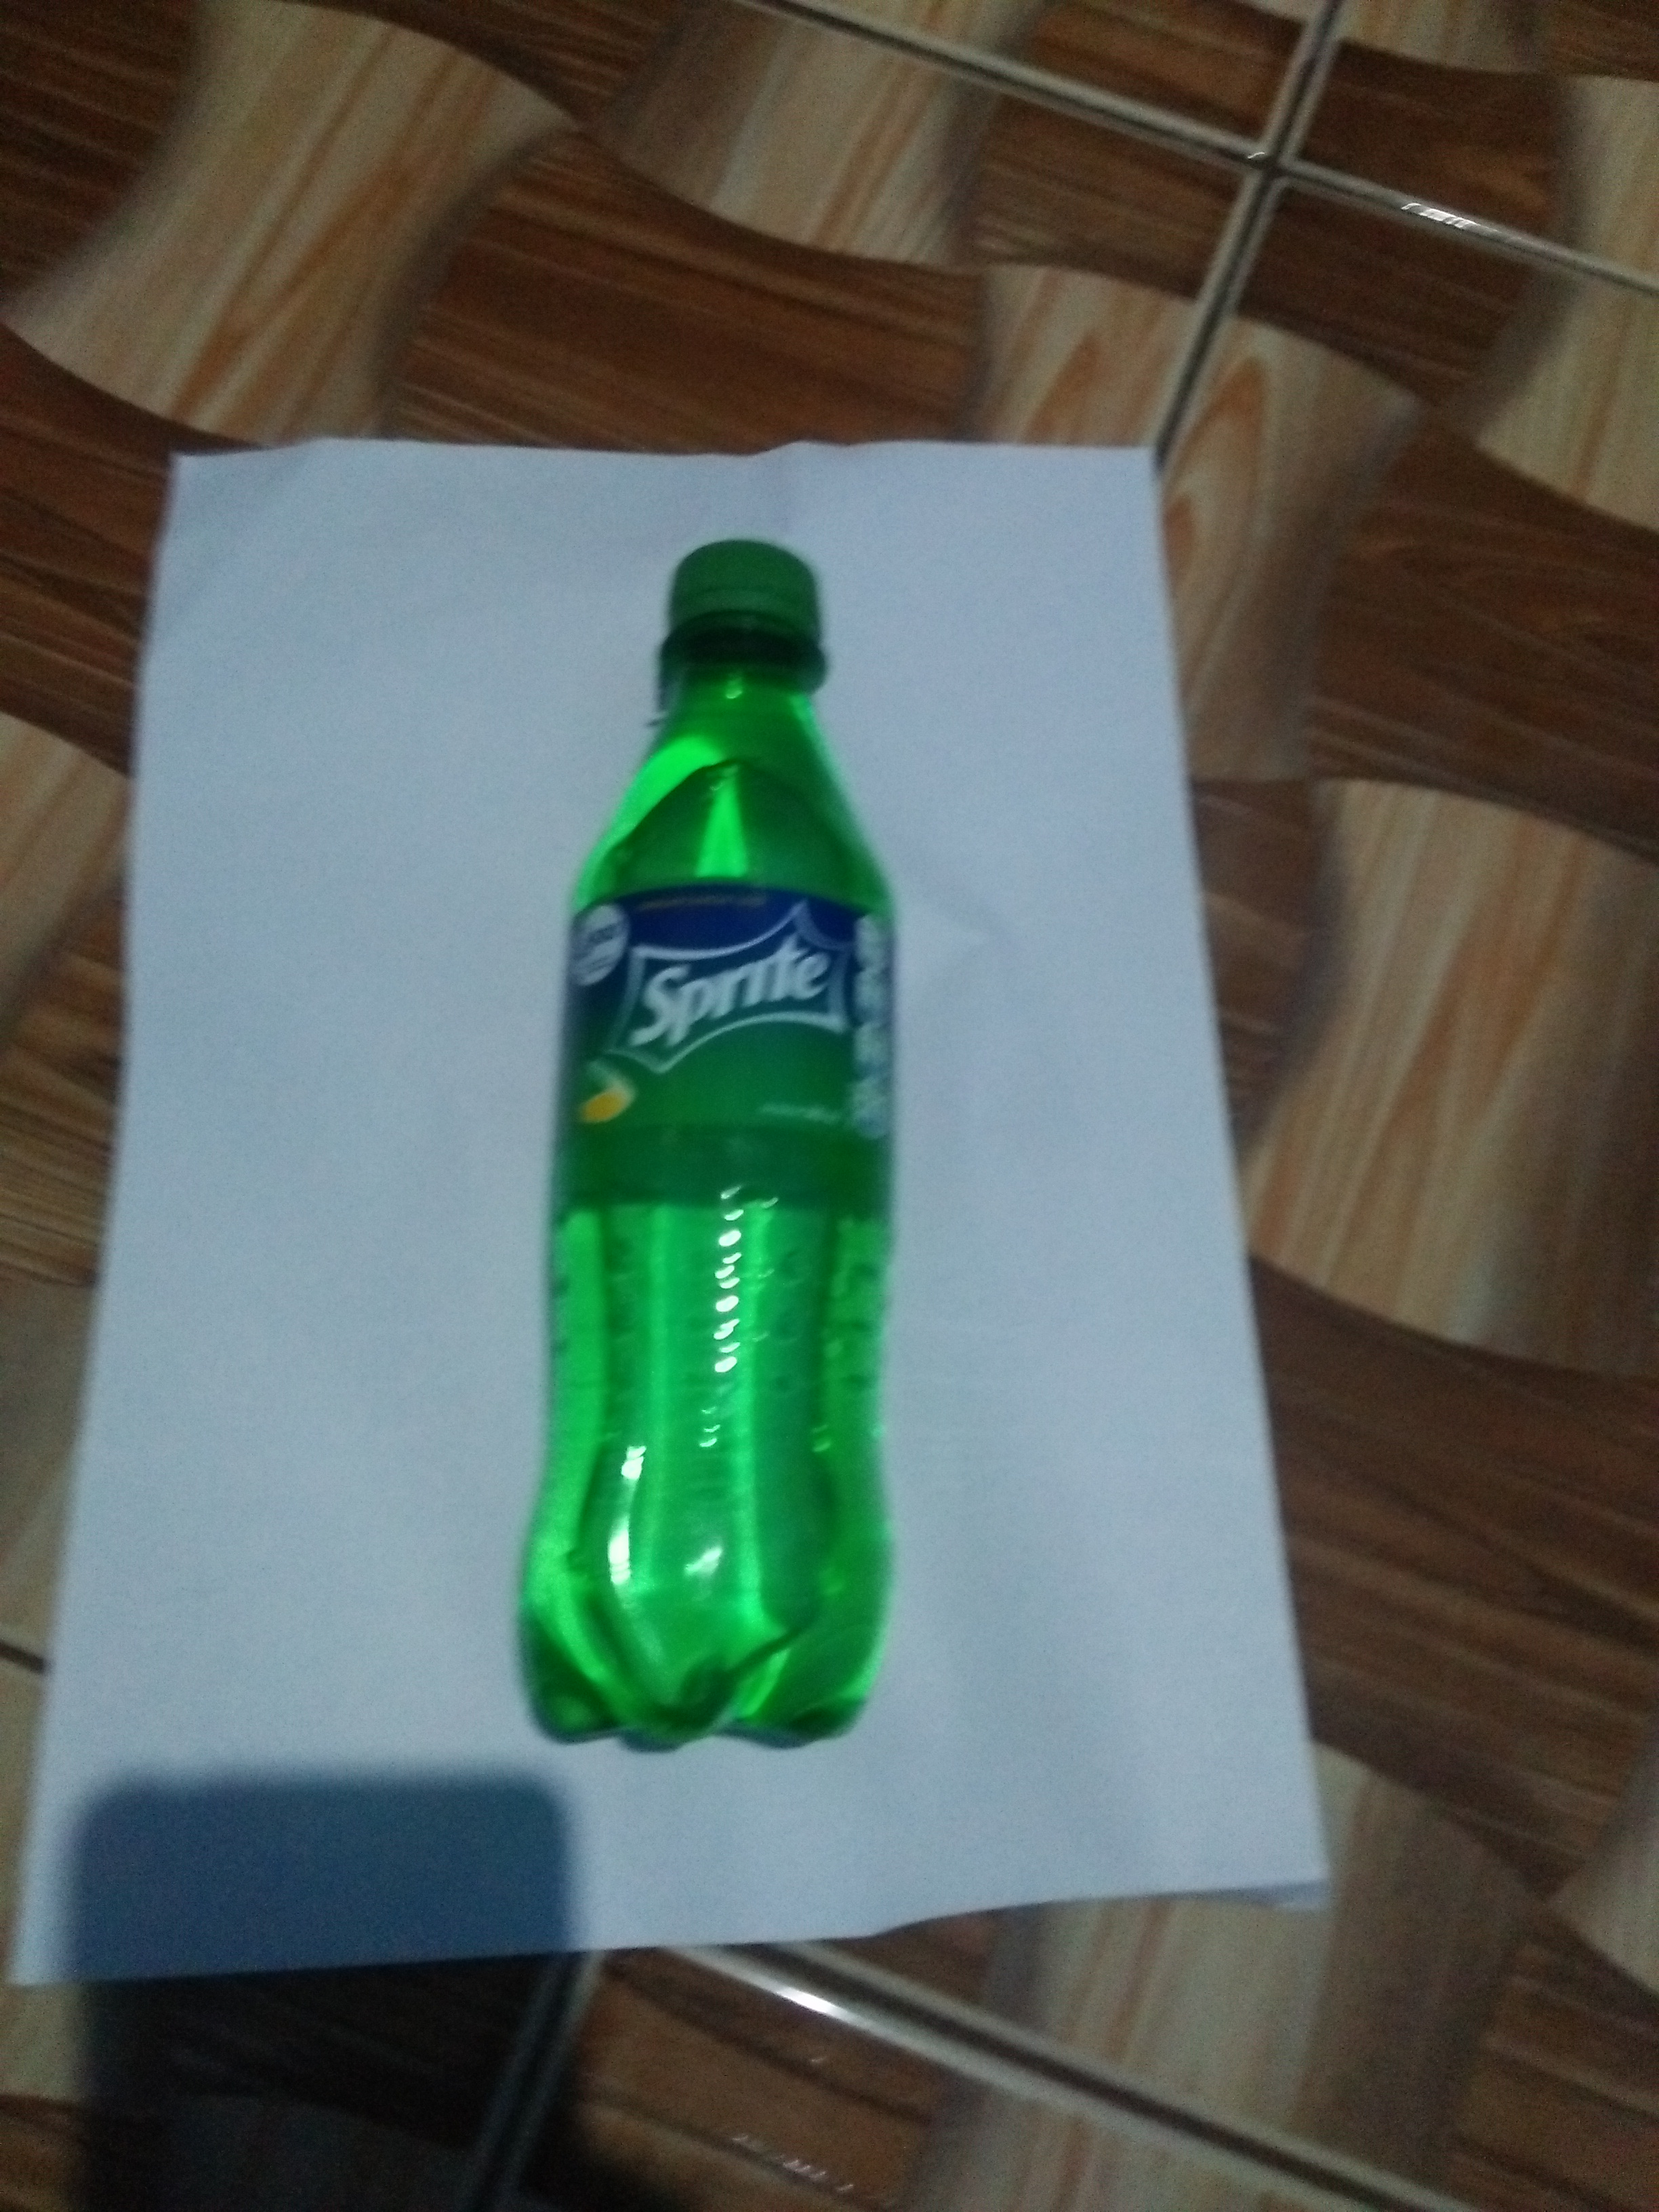Sprite: (502, 516, 938, 1773)
